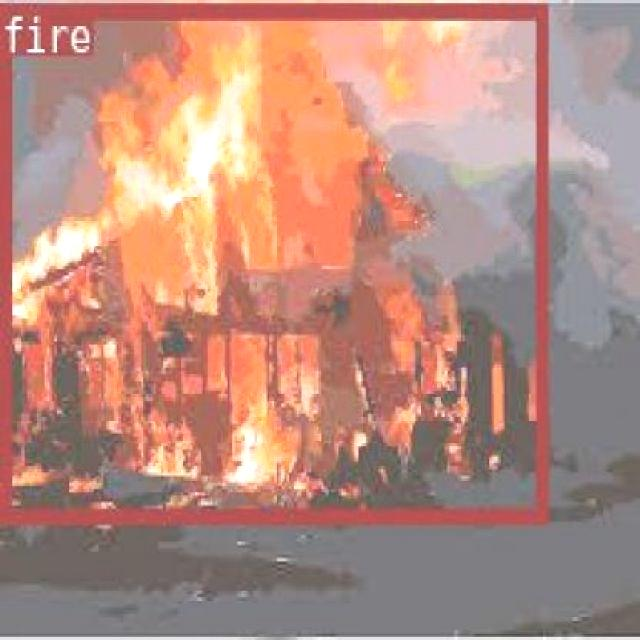fire: (0, 2, 543, 520)
